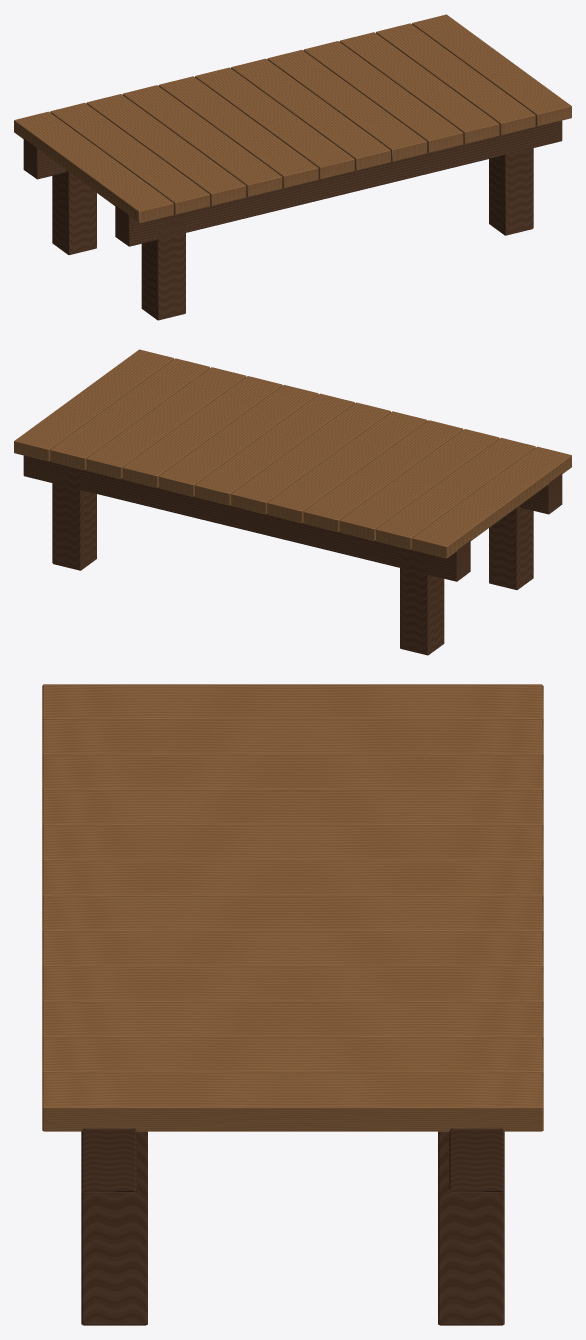
Rendered from engawa.gltf.
The picture shows the model from 3 angles, top to bottom: view 1: azimuth 30°, elevation 25°; view 2: azimuth 150°, elevation 25°; view 3: azimuth 270°, elevation 25°; orthographic projection. The views are drawn at different scales.
Bounding box in the file's own units: 1.8 × 0.49 × 0.9.
2 materials, 2 textured.
